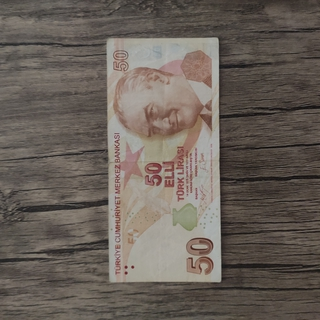50TLFront: (105, 37, 222, 283)
